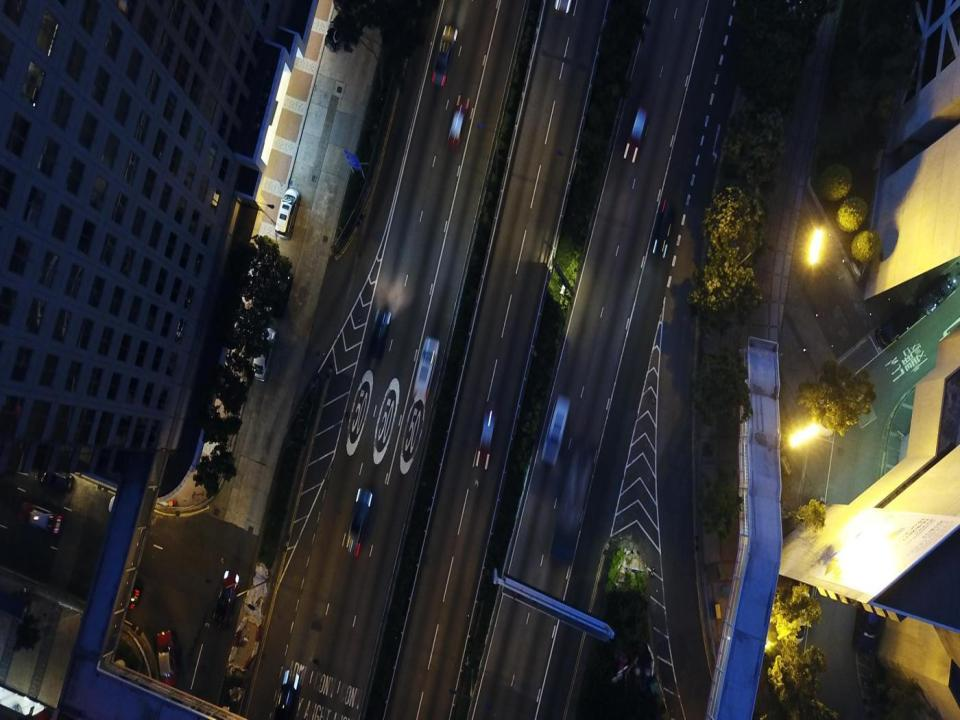car: (343, 488, 376, 554), (413, 338, 441, 403), (429, 26, 458, 85), (154, 628, 180, 691), (250, 328, 278, 383), (475, 403, 497, 472), (97, 582, 141, 616), (624, 104, 648, 164), (367, 309, 390, 367), (446, 93, 470, 148), (275, 668, 300, 718), (25, 504, 61, 538)
van: (543, 392, 571, 465), (276, 188, 299, 240)
